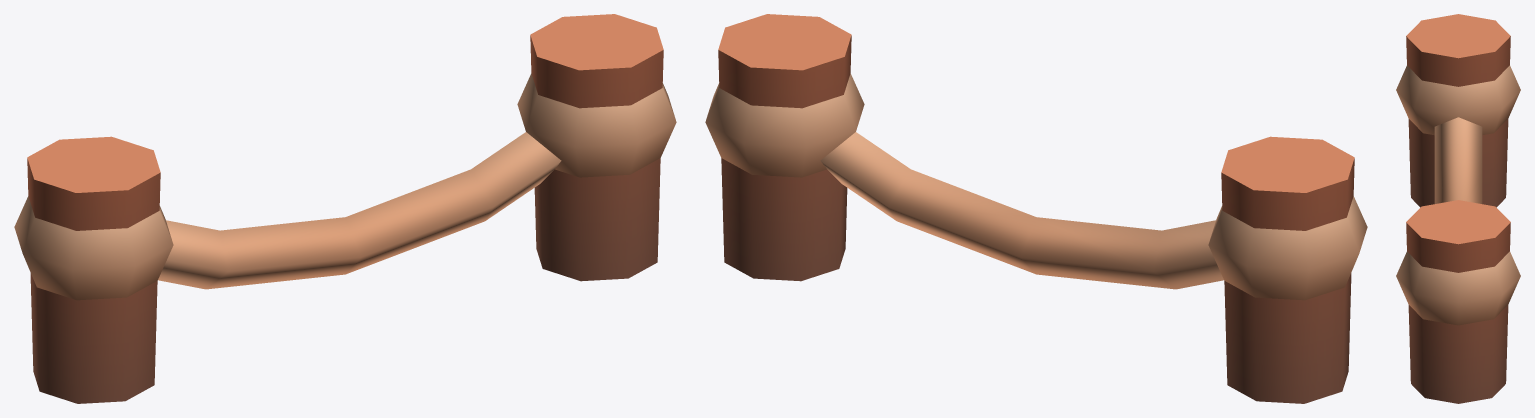
Rendered from fence_rope.glb.
3 views of the same model, side by side, from view 1: azimuth 30°, elevation 25°; view 2: azimuth 150°, elevation 25°; view 3: azimuth 270°, elevation 25° (orthographic). The views are drawn at different scales.
Parts seen in each view (by area): view 1: fence-rope; view 2: fence-rope; view 3: fence-rope.
Boxes of the visible parts, x1=… form: fence-rope: x1=14, y1=14, x2=676, y2=403; fence-rope: x1=705, y1=14, x2=1367, y2=403; fence-rope: x1=1396, y1=14, x2=1520, y2=403.
Bounding box in the file's own units: 0.95 × 0.3 × 0.21.
1 material, 1 textured.
